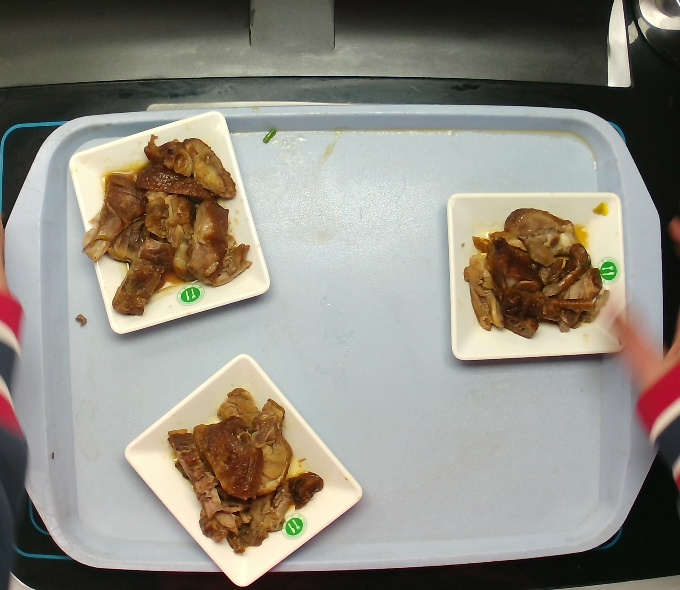wcq-YaRou: (79, 132, 257, 311), (166, 375, 329, 555), (459, 201, 614, 337)
